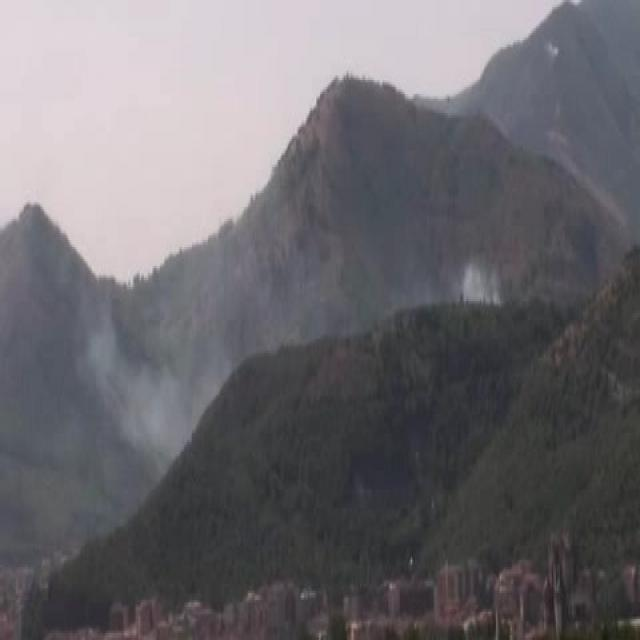smoke: (78, 298, 207, 474), (453, 249, 503, 308)
